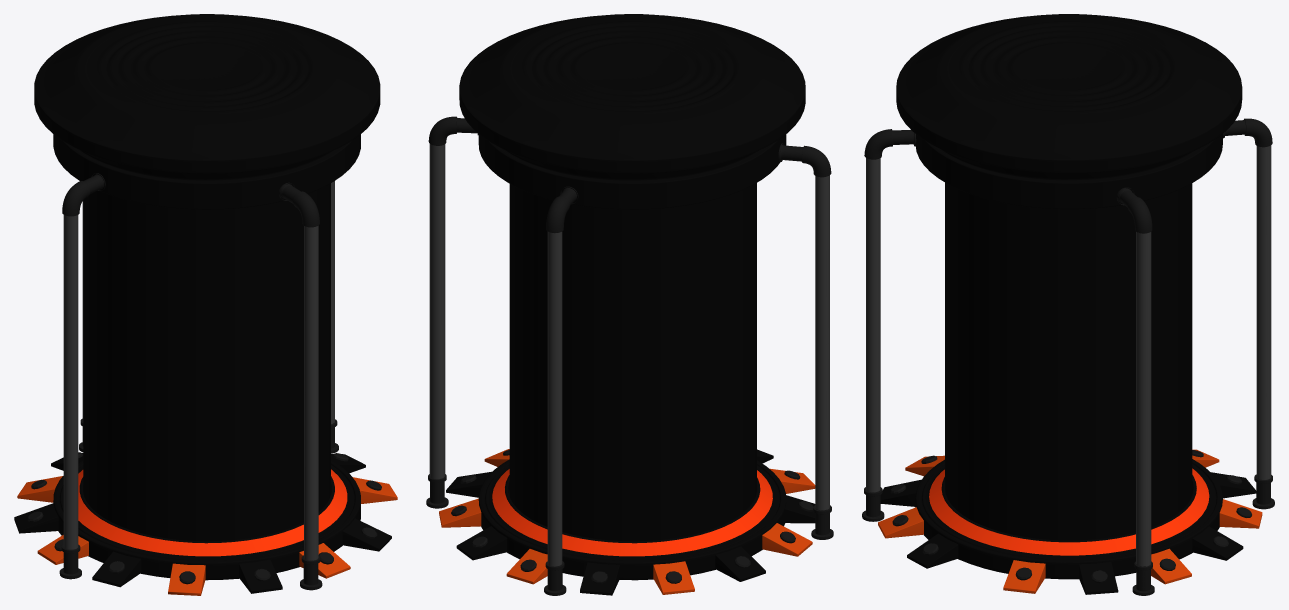
File: Capsule V2 Potion Collector.FBX
The picture shows the model from 3 angles, left to right: view 1: azimuth 30°, elevation 25°; view 2: azimuth 150°, elevation 25°; view 3: azimuth 270°, elevation 25°; orthographic projection.
Parts seen in each view (by area): view 1: Cylinder016, Cylinder018, ad, Cylinder001, foot002, Line005, Line007; view 2: Cylinder016, Cylinder018, ad, Cylinder001, foot002, Line005, Line003, Line002; view 3: Cylinder016, Cylinder018, ad, Cylinder001, foot002, Line007, Line002, Line003.
Part boxes in pixels (x1,y1,x2,y2): Cylinder016: (83,183,330,541); Cylinder018: (34,14,380,209); ad: (17,181,397,595); Cylinder001: (53,460,360,580); foot002: (14,453,391,593); Line005: (62,173,105,216); Line007: (278,182,319,227); Cylinder016: (509,183,756,541); Cylinder018: (459,14,805,209); ad: (426,144,833,595); Cylinder001: (478,459,786,580); foot002: (446,449,815,595); Line005: (778,143,831,177); Line003: (546,186,578,233); Line002: (428,116,478,145); Cylinder016: (945,182,1192,540); Cylinder018: (896,14,1242,209); ad: (862,145,1274,595); Cylinder001: (915,459,1222,579); foot002: (880,472,1256,594); Line007: (864,129,916,159); Line002: (1116,187,1152,233); Line003: (1223,118,1272,147).
Size of the model in its own units: 203 by 256 by 213.
